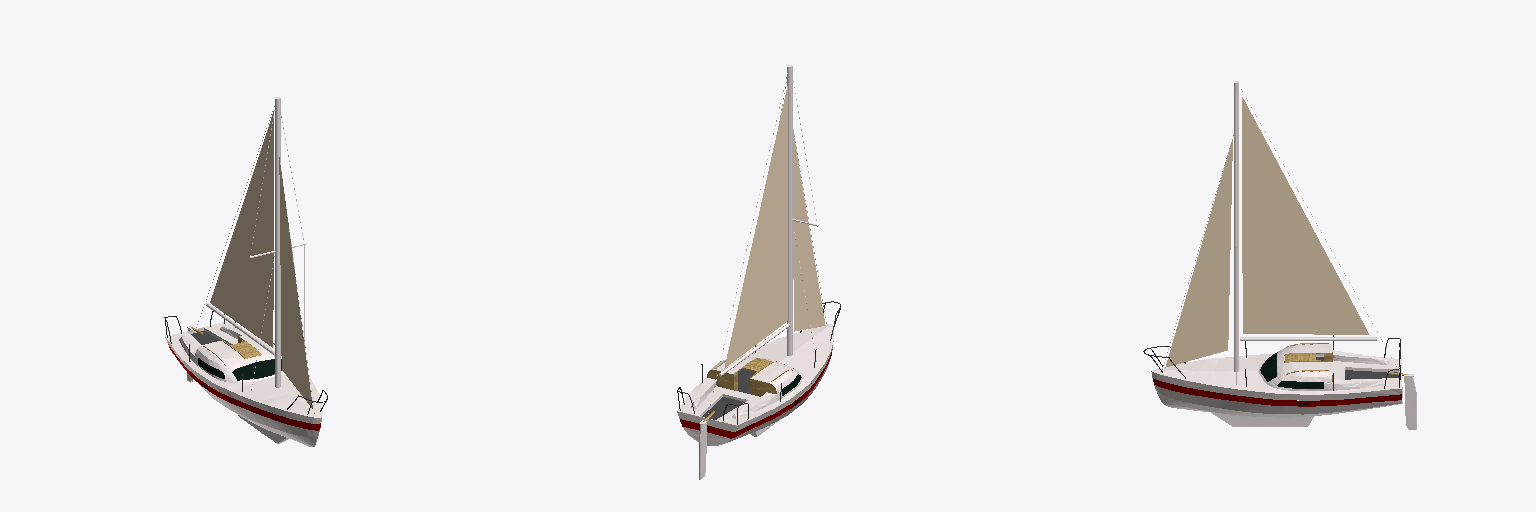
3 views of the same model, side by side, from view 1: azimuth 30°, elevation 25°; view 2: azimuth 150°, elevation 25°; view 3: azimuth 270°, elevation 25° (orthographic).
Visible parts, largest first — view 1: SailMain_Plane.002, SailJib_Plane.001, Deck_Plane, Hull_Cube, Cabin_Cabin11, MastMain_Cylinder; view 2: SailMain_Plane.002, Deck_Plane, SailJib_Plane.001, Cabin_Cabin11, MastMain_Cylinder, Hull_Cube, Cabin2, invdeck_Plane.003; view 3: SailMain_Plane.002, SailJib_Plane.001, Hull_Cube, Deck_Plane, Cabin_Cabin11, MastMain_Cylinder, Keel_Cube.001, Rudder, Boom_Cylinder.001.
Part boxes in pixels (x1,y1,x2,y2): SailMain_Plane.002: (210,111,273,347); SailJib_Plane.001: (279,158,312,408); Deck_Plane: (165,322,321,417); Hull_Cube: (165,337,321,446); Cabin_Cabin11: (179,326,283,382); MastMain_Cylinder: (275,97,280,387); SailMain_Plane.002: (724,86,787,368); Deck_Plane: (677,324,833,445); SailJib_Plane.001: (793,132,825,331); Cabin_Cabin11: (691,356,802,418); MastMain_Cylinder: (787,65,792,355); Hull_Cube: (727,341,833,442); Cabin2: (707,370,776,396); invdeck_Plane.003: (702,369,811,419); SailMain_Plane.002: (1242,97,1368,334); SailJib_Plane.001: (1165,140,1232,367); Hull_Cube: (1151,356,1402,417); Deck_Plane: (1152,354,1402,402); Cabin_Cabin11: (1259,343,1388,390); MastMain_Cylinder: (1234,81,1238,371); Keel_Cube.001: (1212,413,1313,426); Rudder: (1387,372,1416,429); Boom_Cylinder.001: (1240,337,1376,340).
Size of the model in its own units: 1.88 by 7.33 by 5.22.
9 materials, 1 textured.